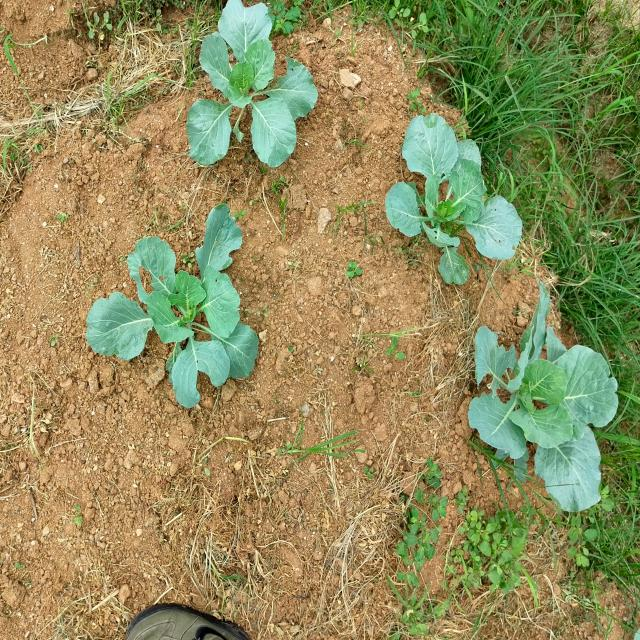Cabbage: (81, 206, 266, 415), (465, 298, 633, 518), (384, 97, 536, 284), (180, 0, 319, 175)
